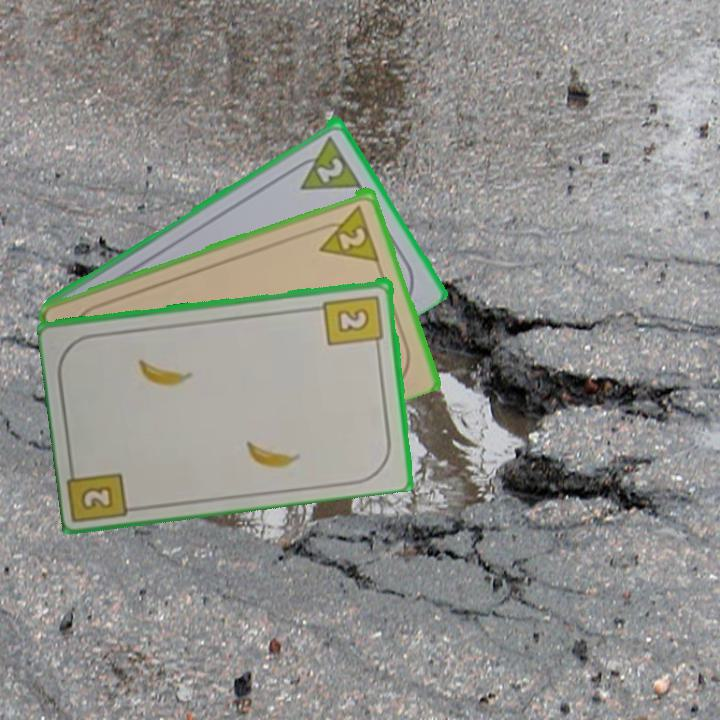2b: (321, 291, 387, 352), (77, 481, 117, 513)
2p: (286, 132, 364, 193), (310, 199, 382, 264)
